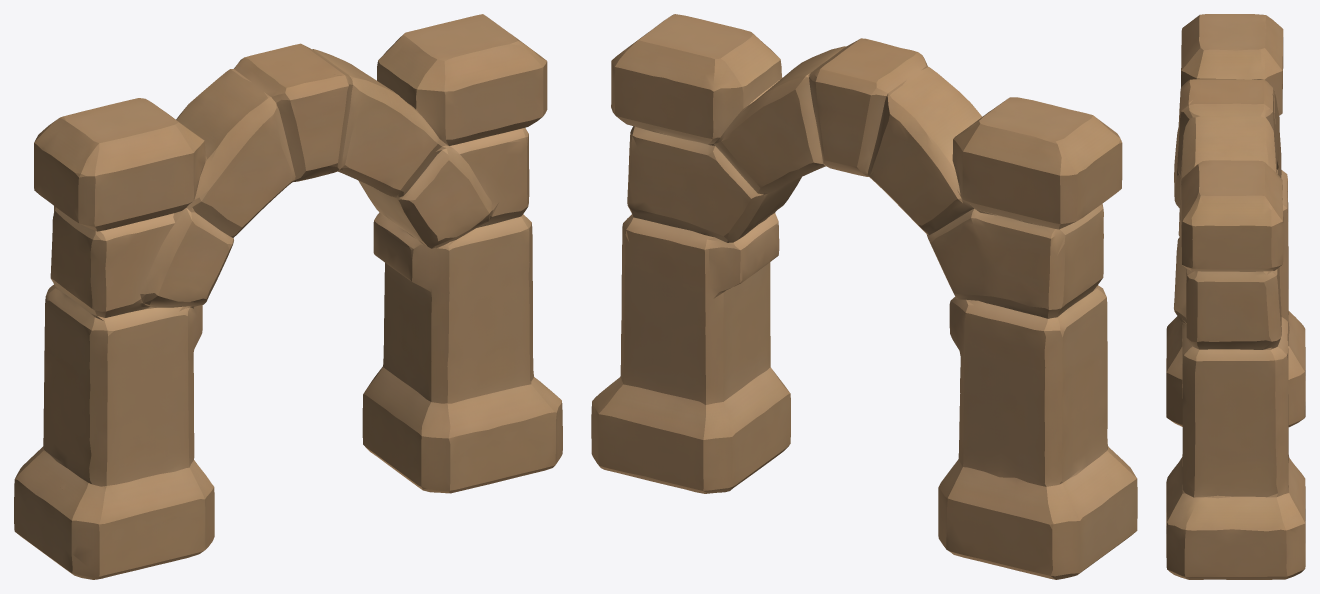
3 renders of one model, left to right at view 1: azimuth 30°, elevation 25°; view 2: azimuth 150°, elevation 25°; view 3: azimuth 270°, elevation 25°, orthographic. The views are drawn at different scales.
Visible parts, largest first — view 1: model; view 2: model; view 3: model.
Boxes of the visible parts, box(x1,y1,x2,y2) form: model: box(14, 14, 562, 579); model: box(591, 14, 1137, 579); model: box(1166, 14, 1305, 579).
Size of the model in its own units: 190 by 161 by 52.81.
Materials: 1 (1 with a texture image).
